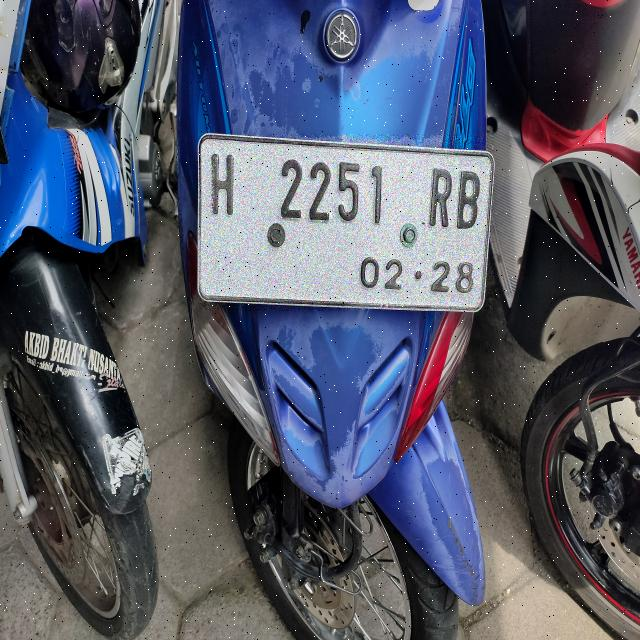plate: (199, 135, 493, 310)
